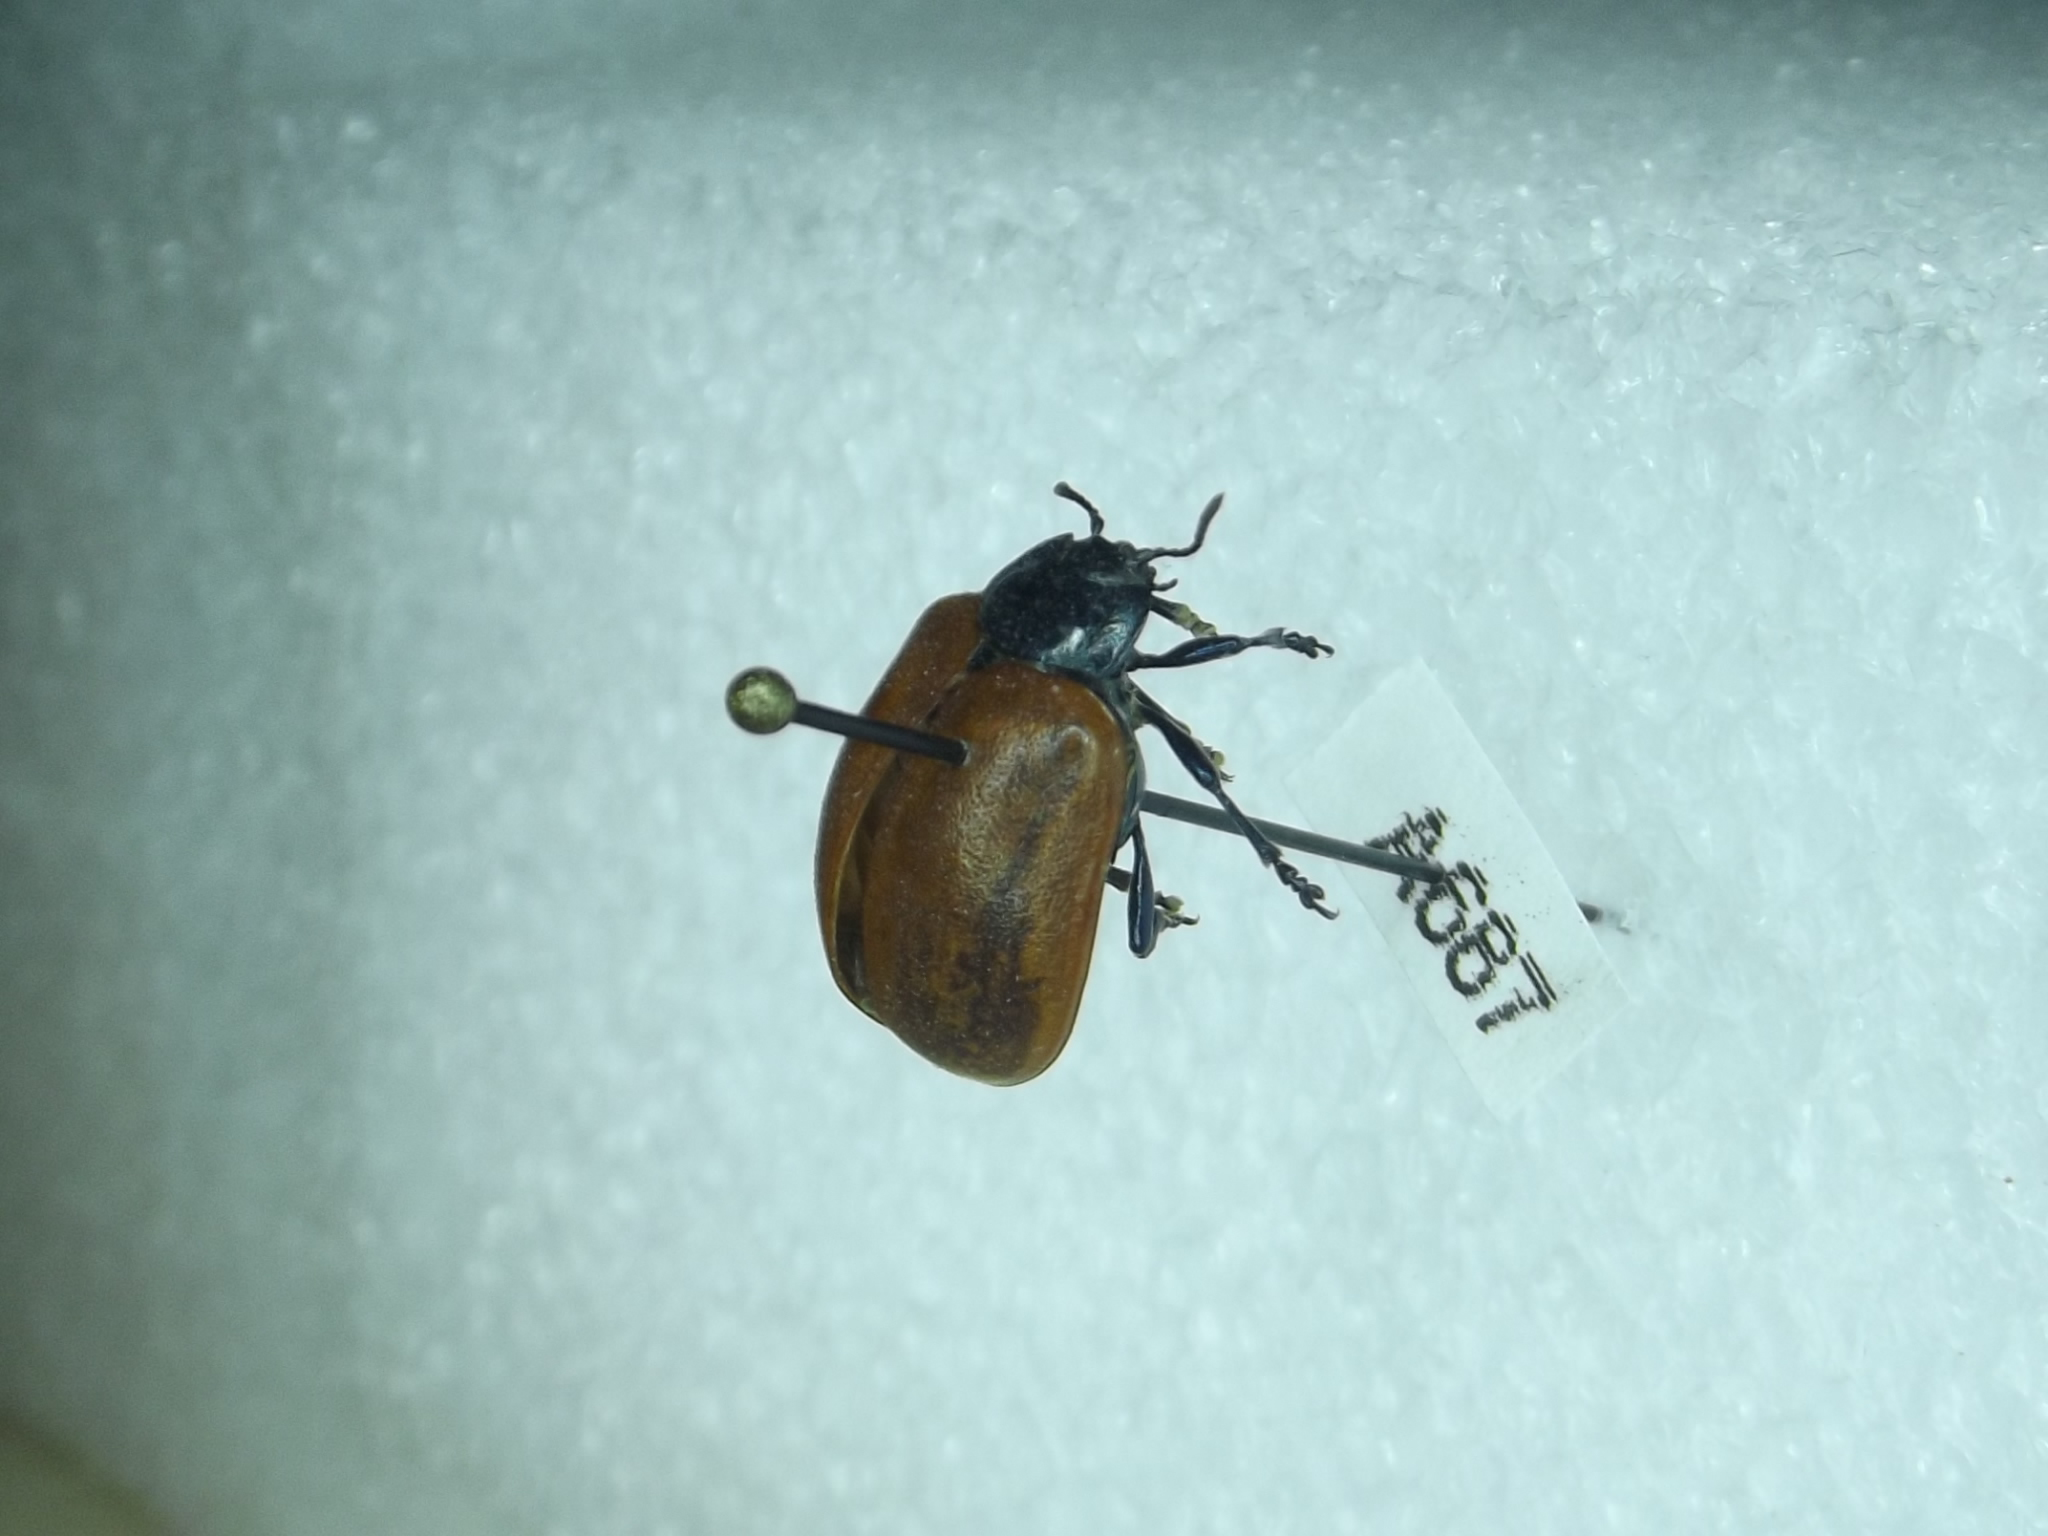Chrysomela_populi: (766, 466, 1355, 1092)
